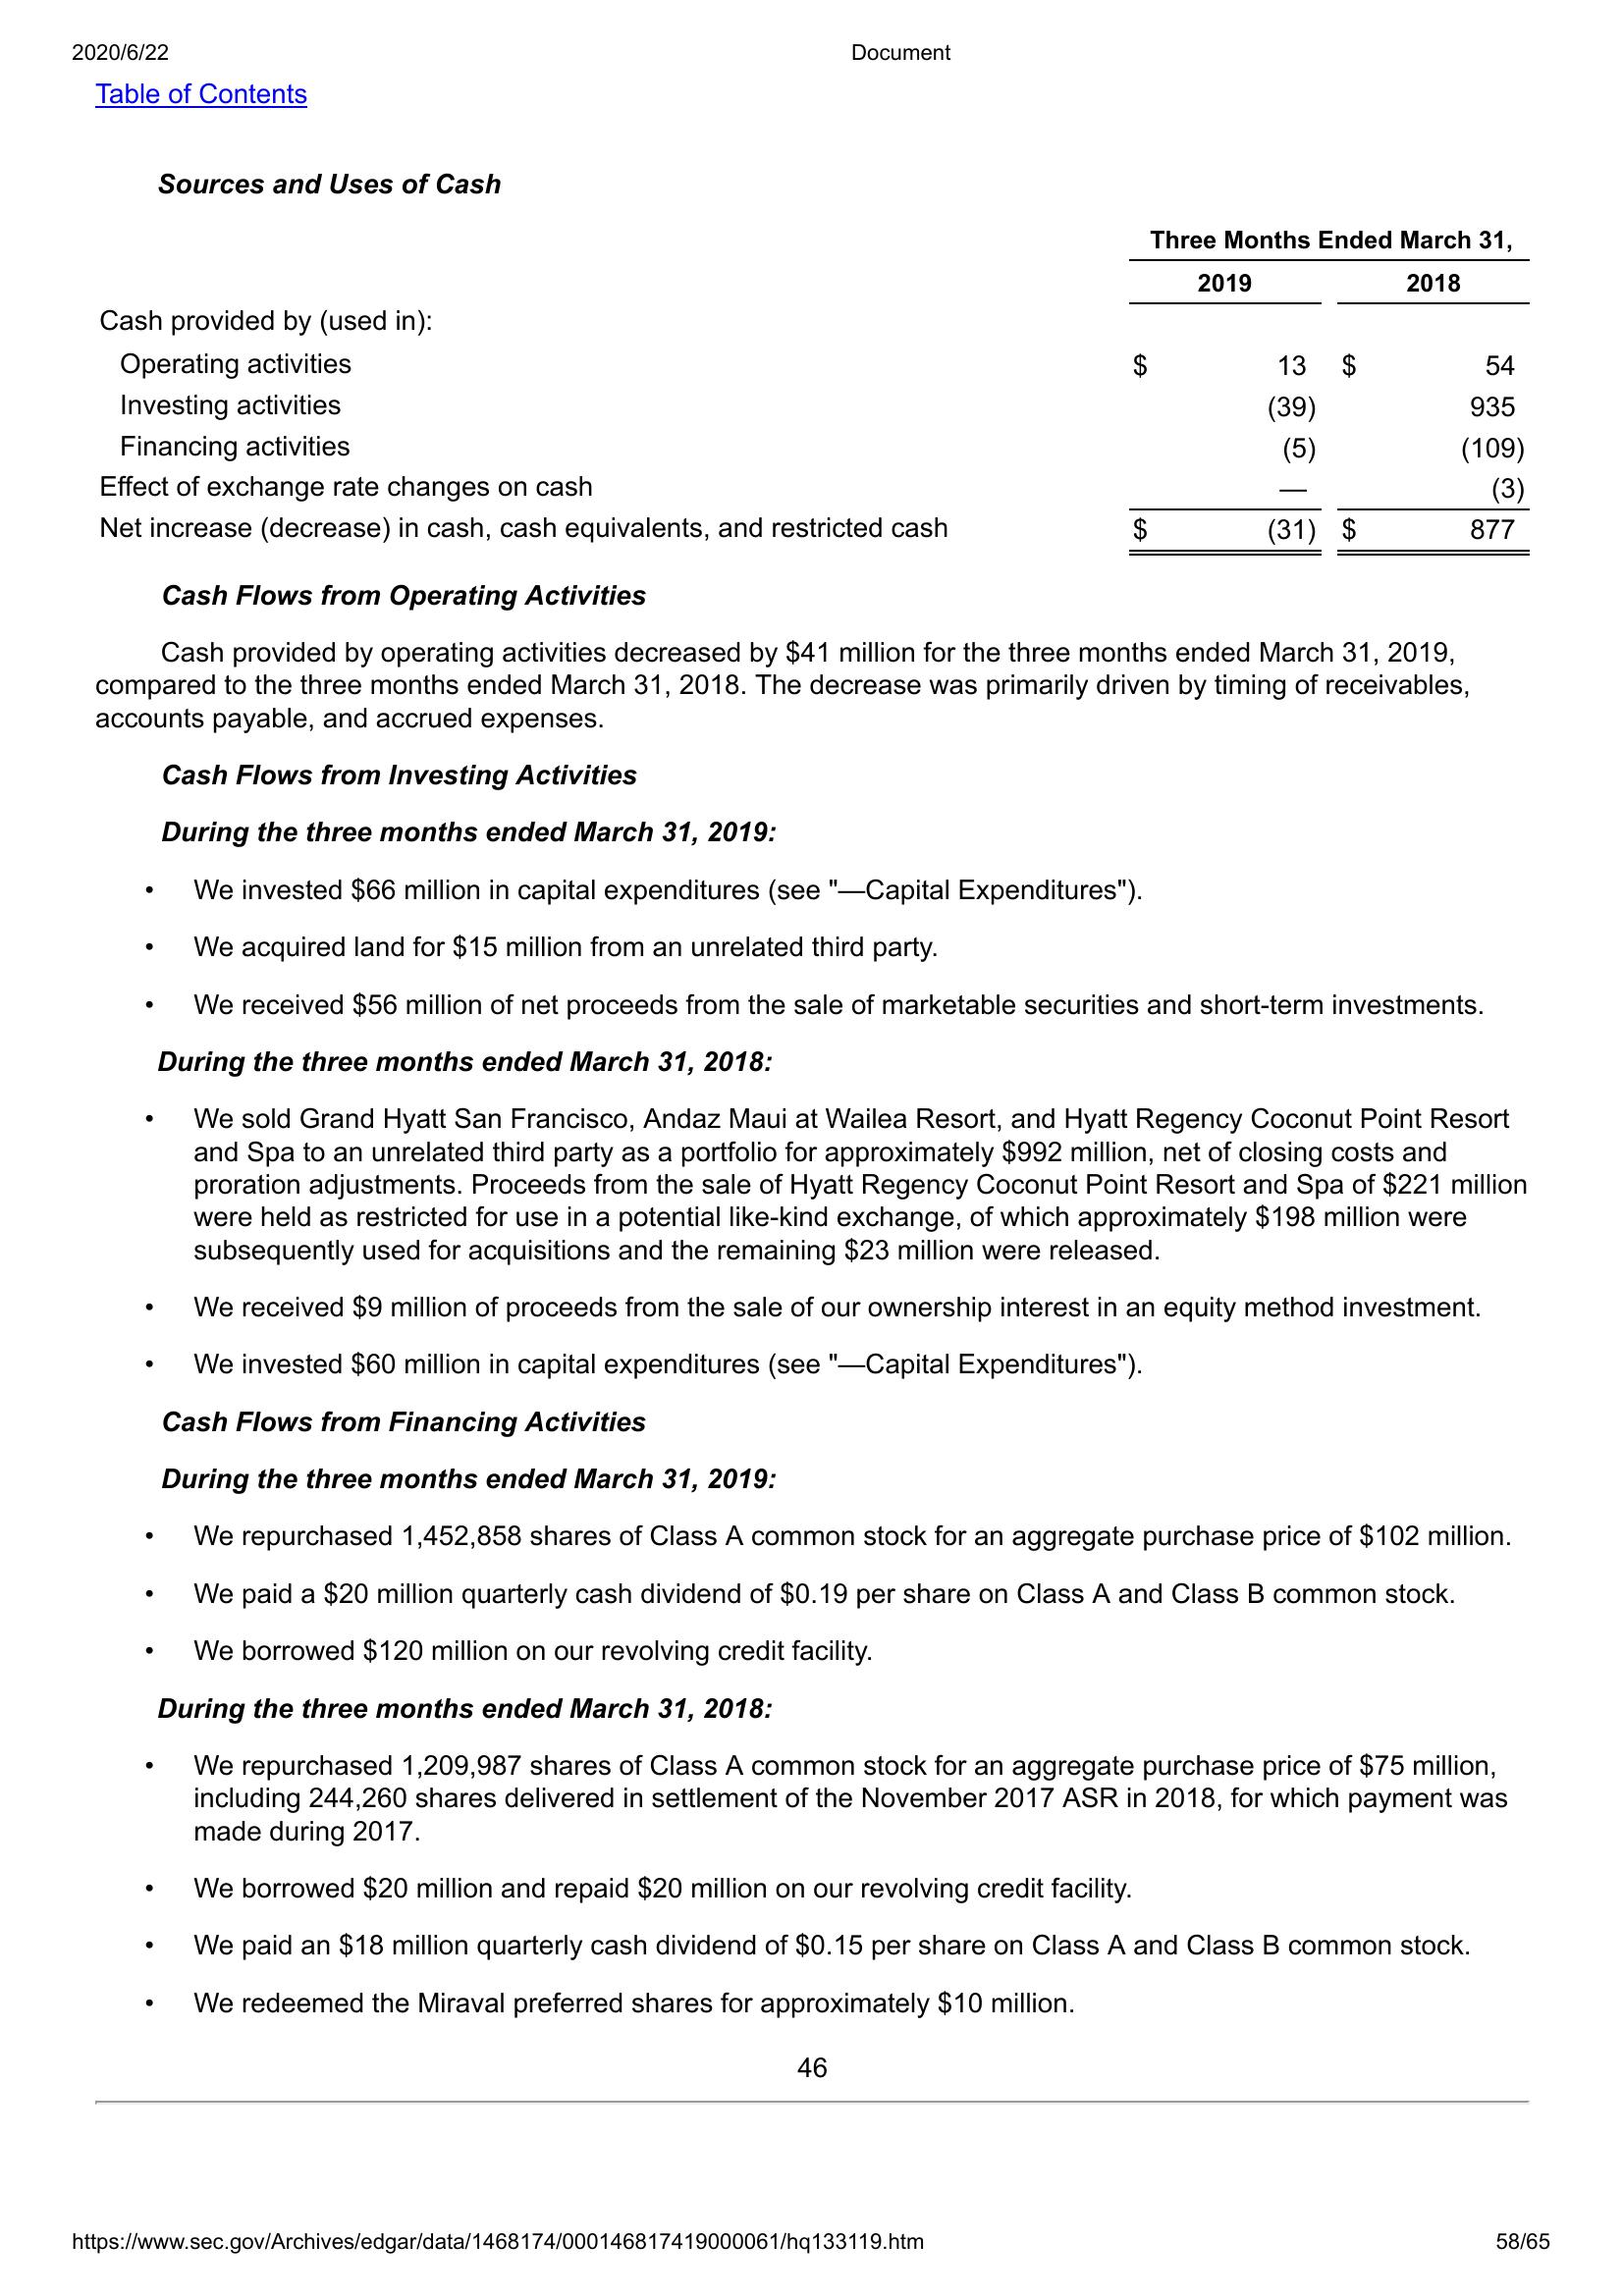table: (88, 223, 1546, 563)
